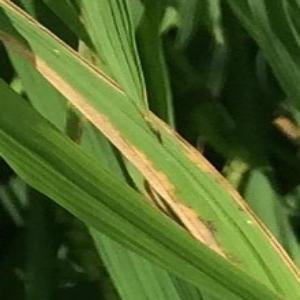Bacterial_Blight: (146, 113, 234, 258)
